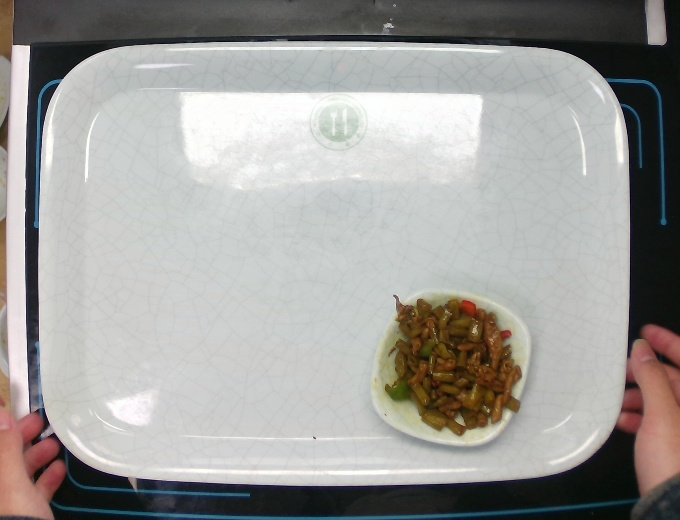JYsf-Si_Fang_Die: (364, 279, 533, 449)
